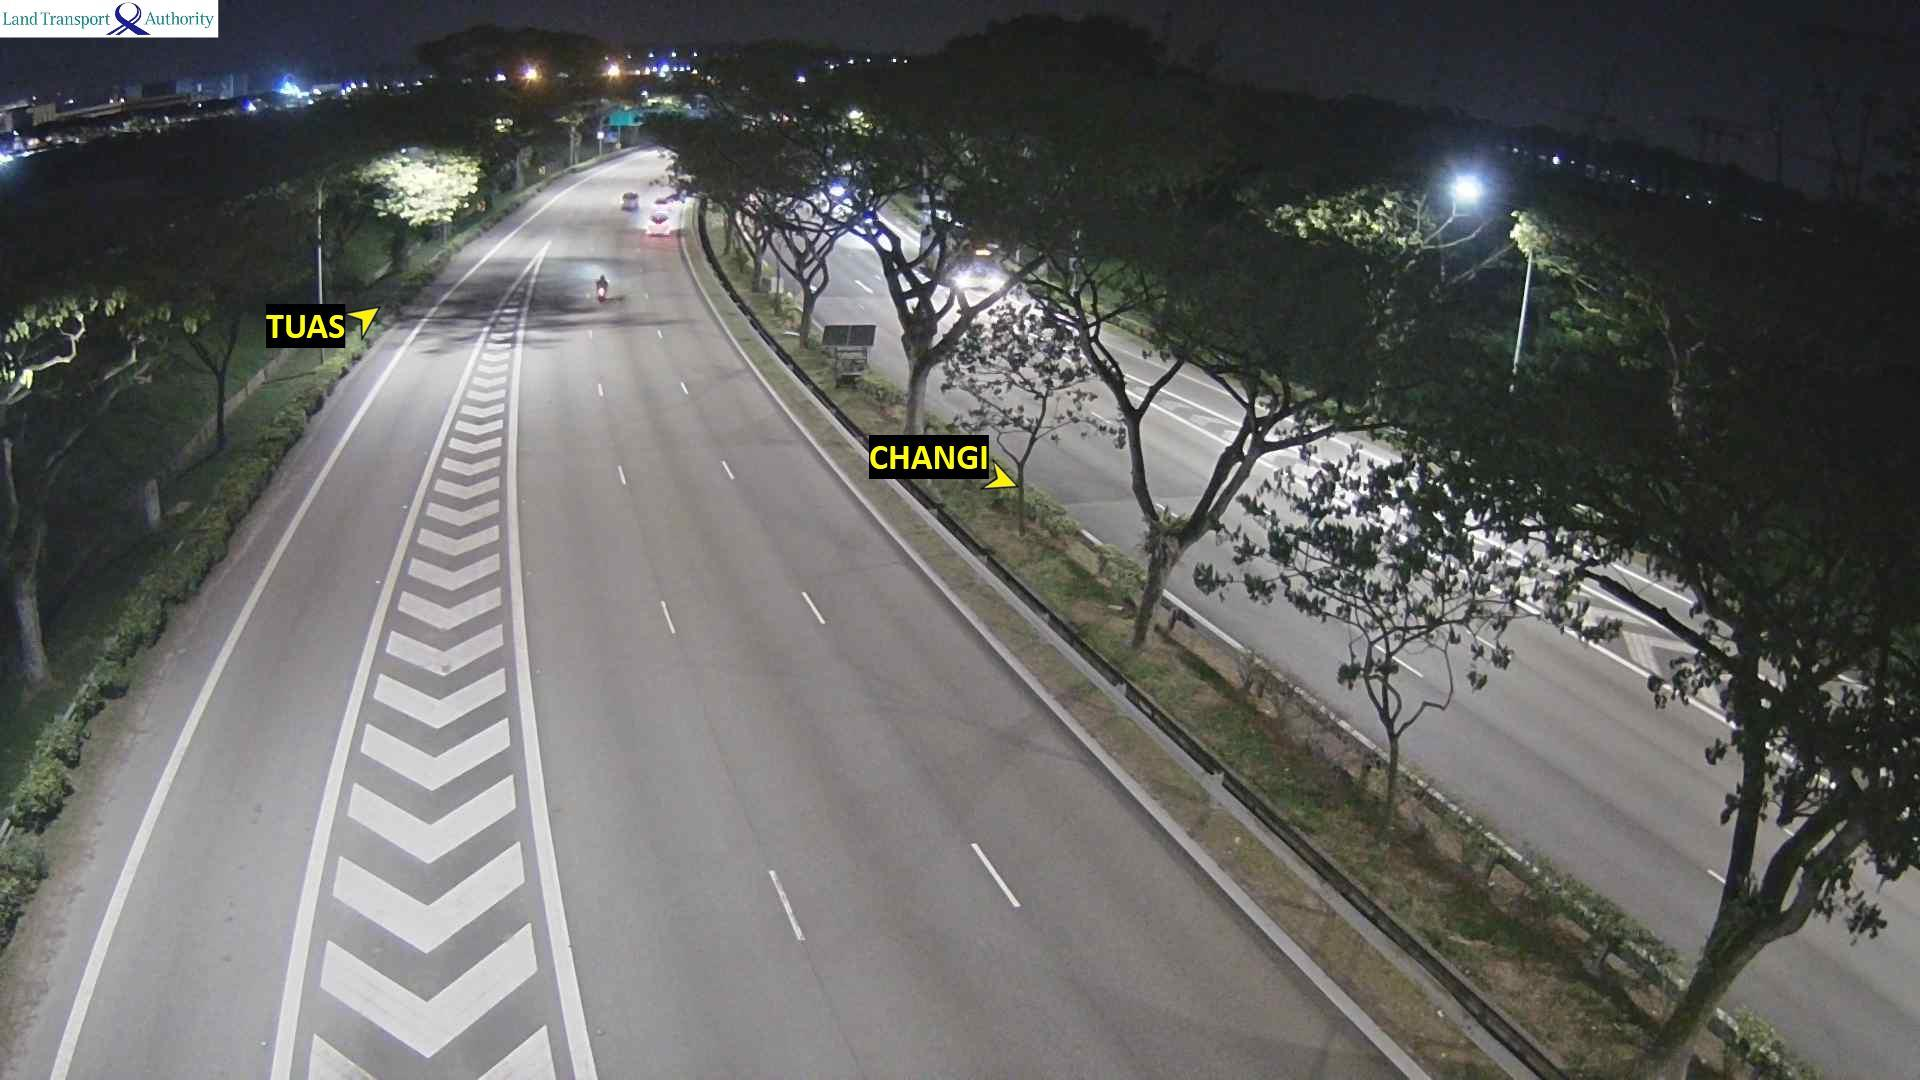cars: (916, 216, 1007, 293), (645, 208, 673, 236)
motorcycle: (593, 273, 609, 303)
trucks: (620, 190, 638, 210)
